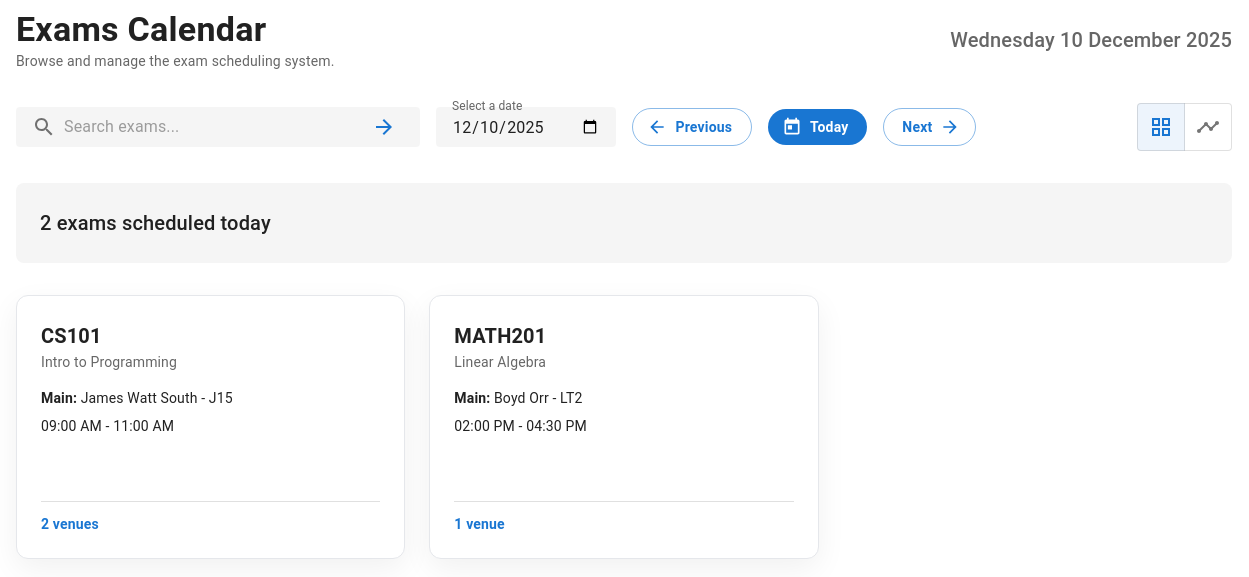
Test: AdminCalendar › navigates to next and previous days correctly
The width and height of the screenshot is (1249, 577).
Click the button "Next".
click(929, 127)  # box left=883, top=108, right=976, bottom=146
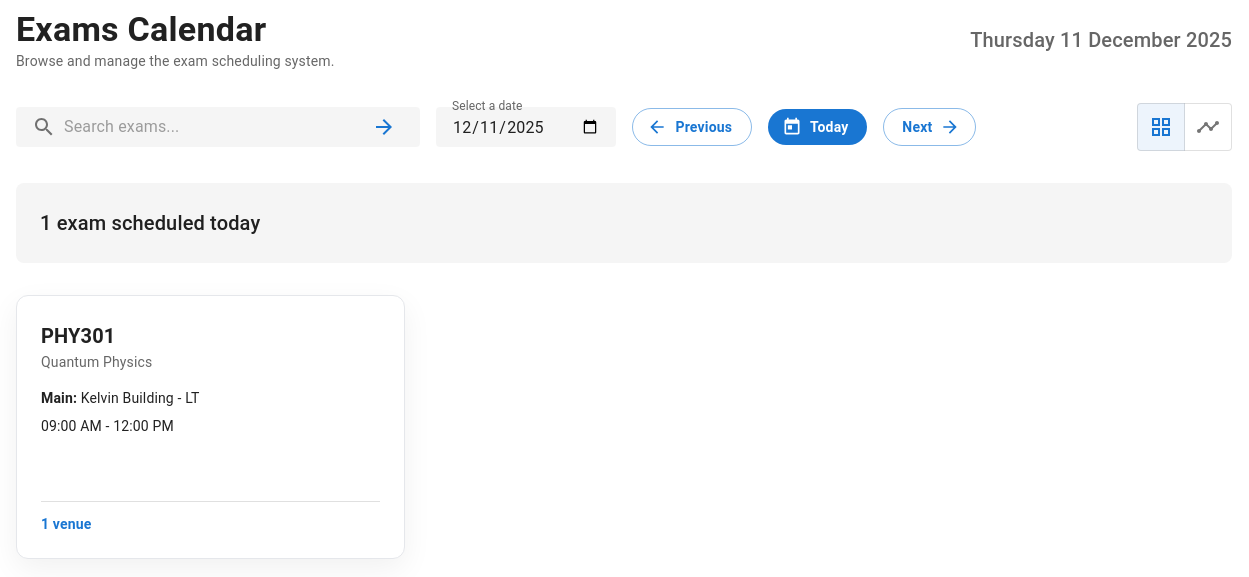
Expected: the heading with test id "date-header" shows "11", left=970, top=28, right=1232, bottom=52
Click the button "Previous".
click(692, 127)  # box left=632, top=108, right=752, bottom=146
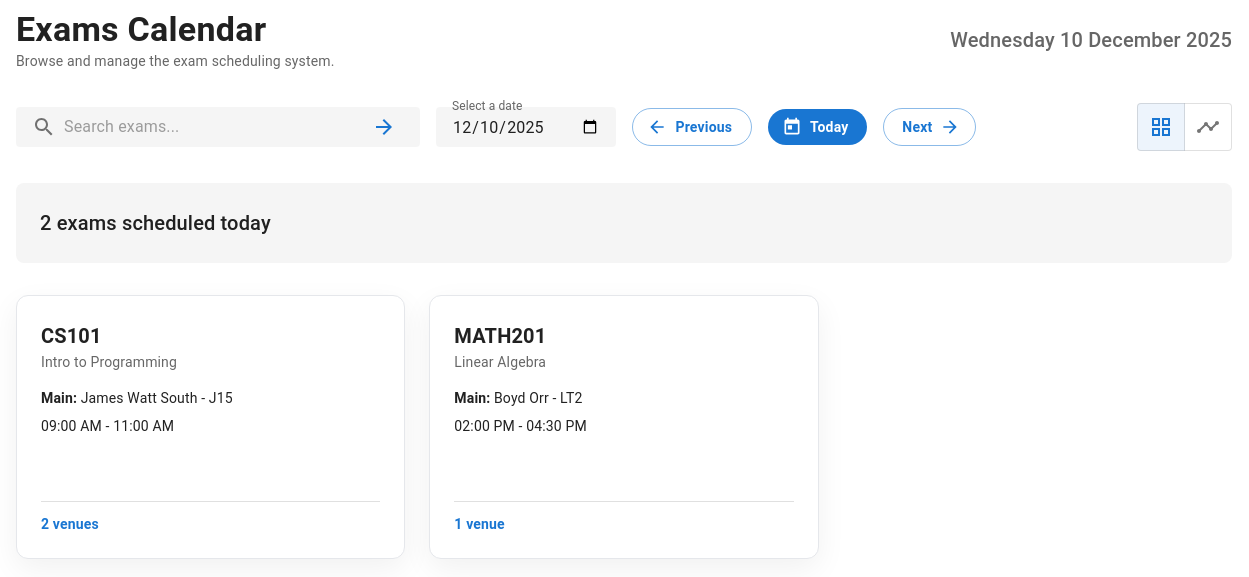
Click the button "Previous".
click(692, 127)  # box left=632, top=108, right=752, bottom=146
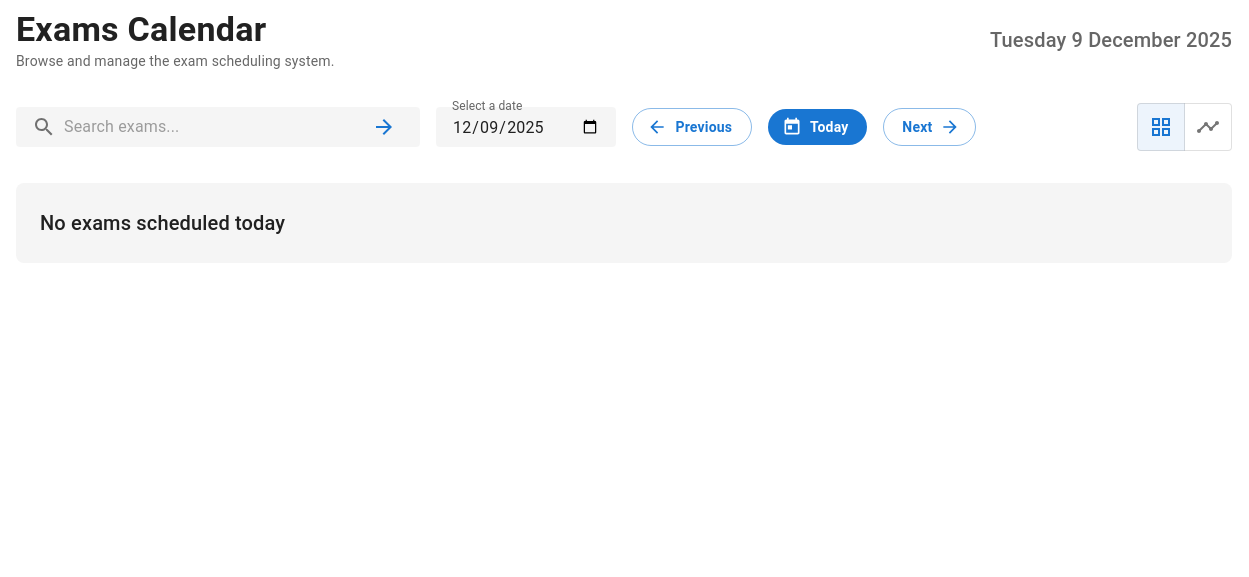
Expected: the heading with test id "date-header" shows "9", left=990, top=28, right=1232, bottom=52
